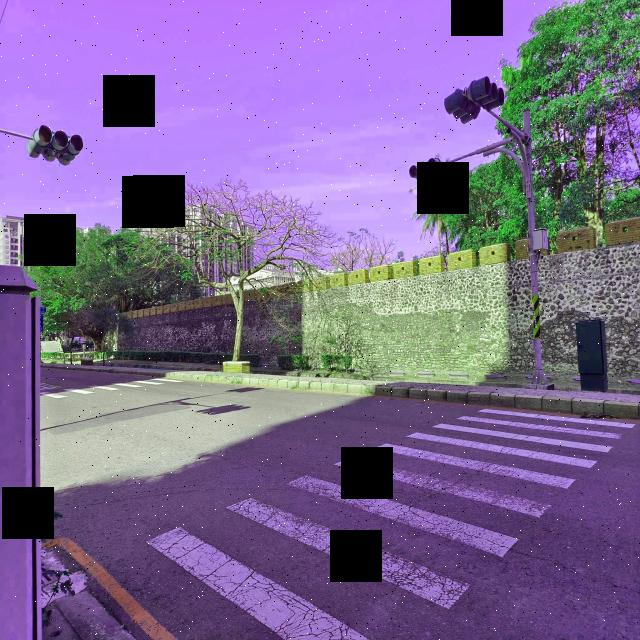zebra crossing: (152, 405, 634, 640), (39, 376, 175, 401)
